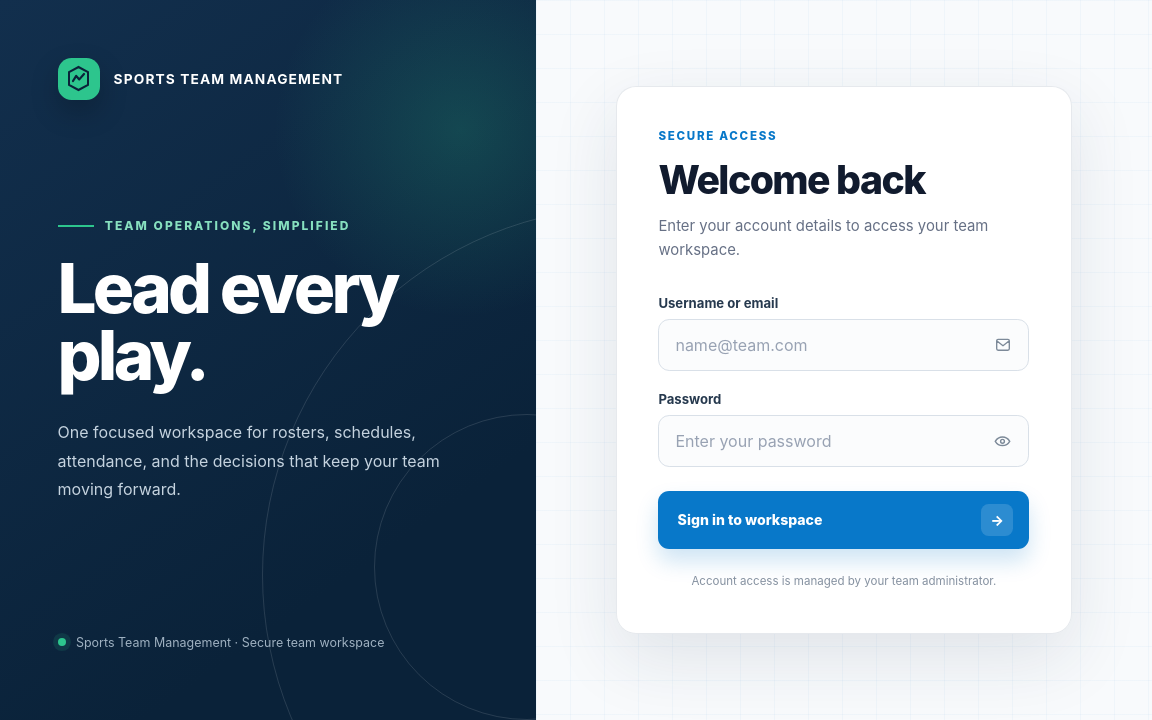
Test: Sprint 1 authentication flow › stores the returned JWT and displays the dashboard after success
Type "coach@example.com" into the field labelled "Username or email" at [844, 345], box [658, 319, 1029, 371]
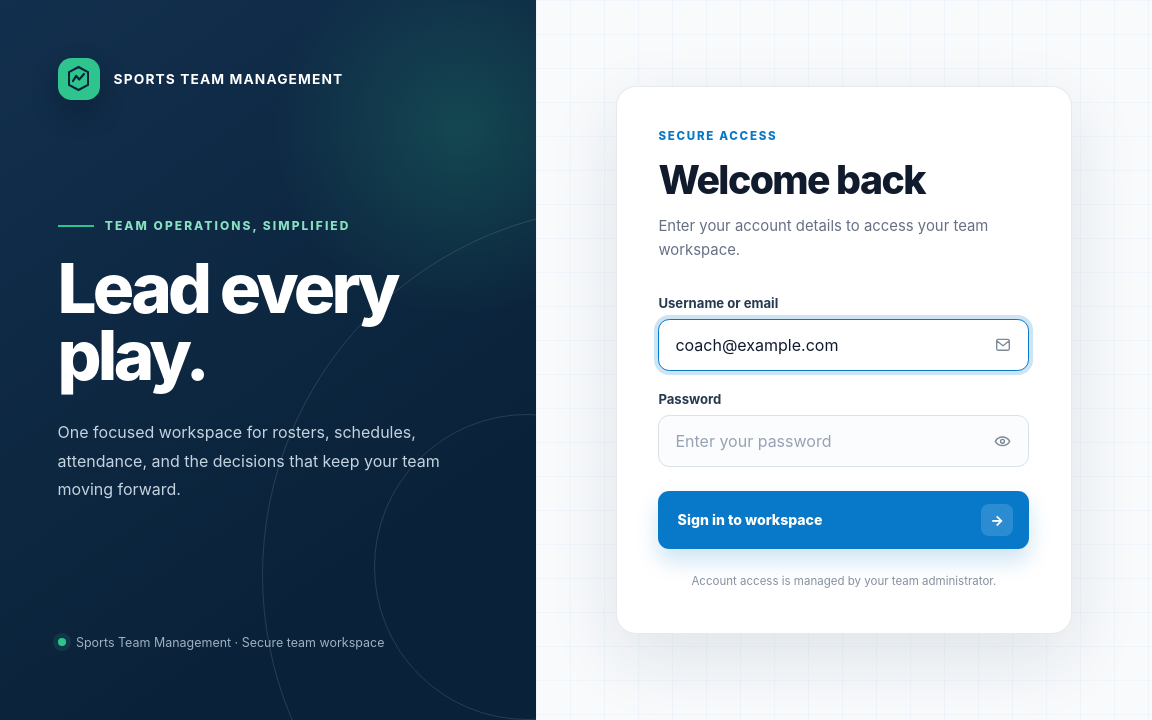
Type "password123" into the password field labelled "Password" at [844, 441], box [658, 415, 1029, 467]
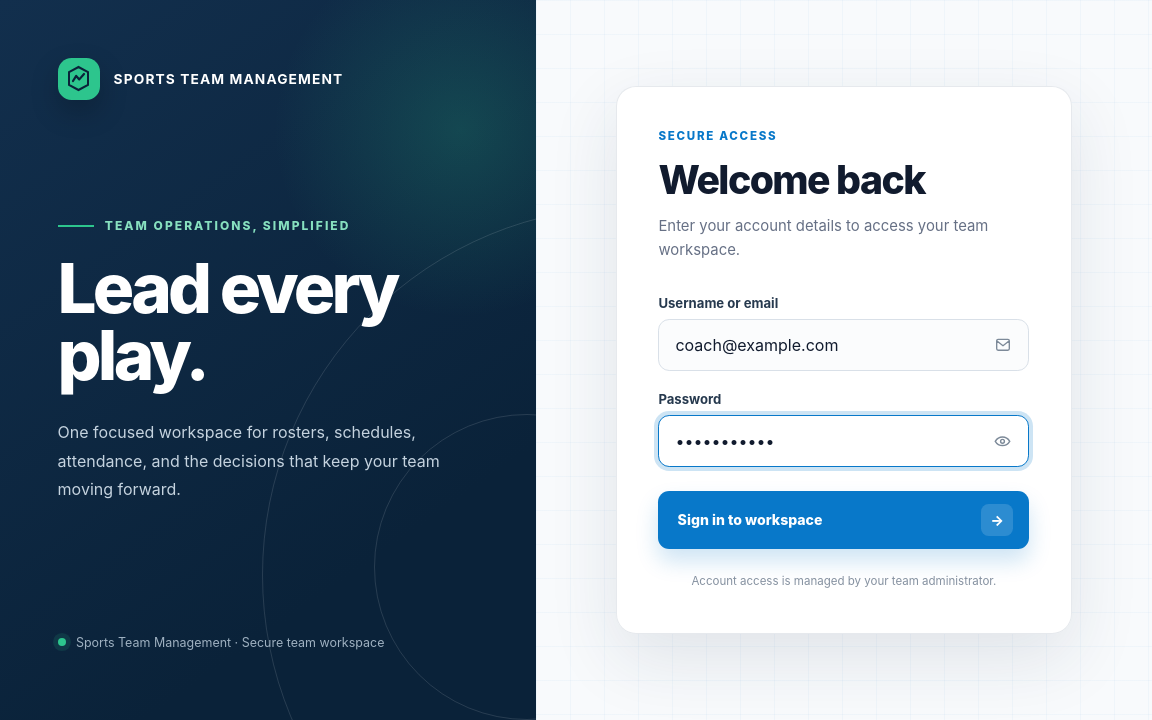
Click the button "Sign in to workspace →" at [750, 520], box [658, 491, 1029, 548]
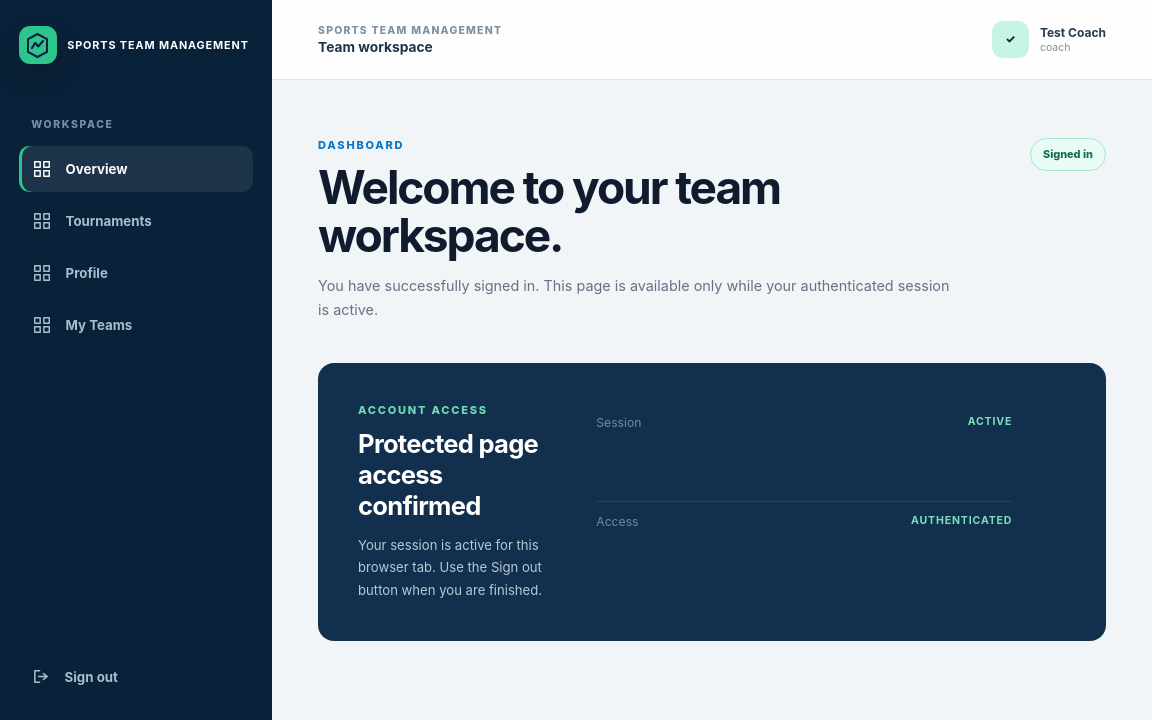
Result: the heading "Welcome to your team workspace." is shown at [318, 159, 780, 263]
